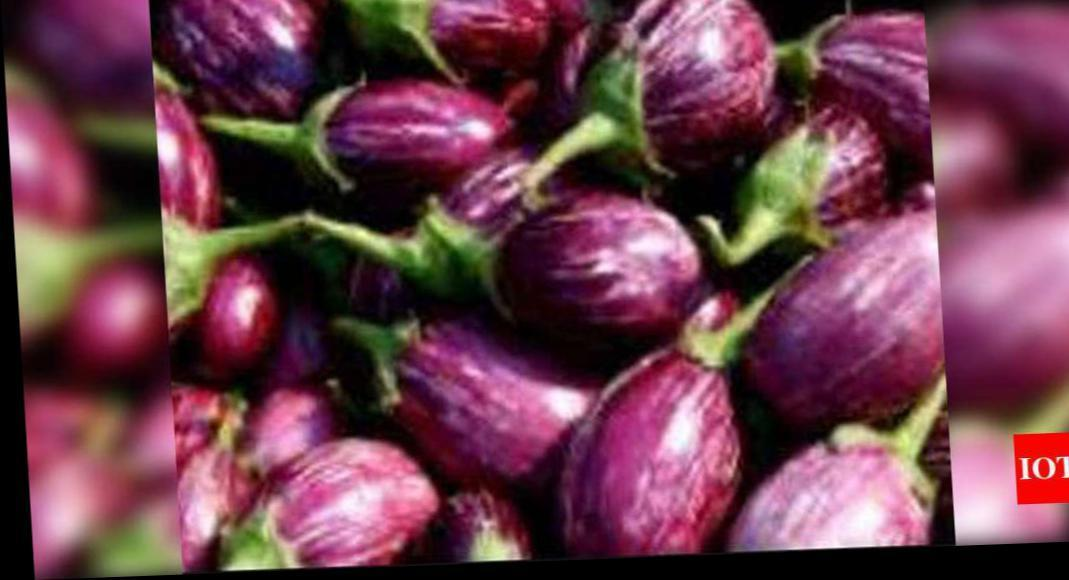eggplant: (162, 14, 942, 550)
